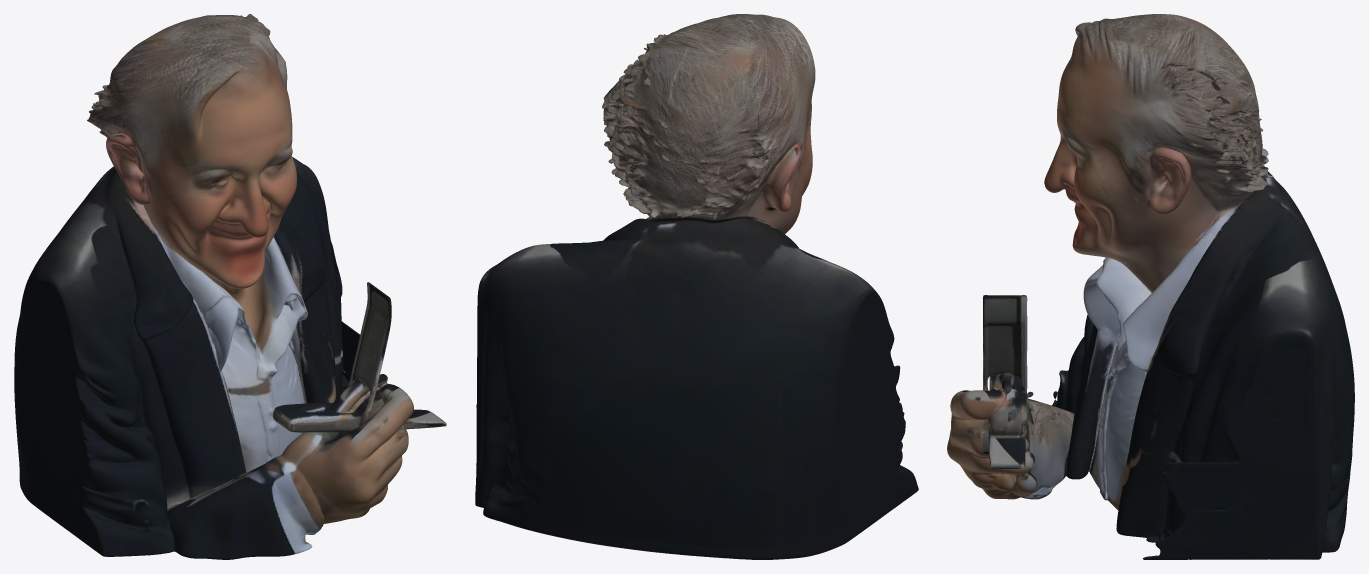
The model's file is elderly man 3d model (1).glb.
3 views of the same model, side by side, from view 1: azimuth 30°, elevation 25°; view 2: azimuth 150°, elevation 25°; view 3: azimuth 270°, elevation 25° (orthographic).
Visible parts, largest first — view 1: tripo_node_208a9336-2ae3-4dad-b307-fb189d6de02f; view 2: tripo_node_208a9336-2ae3-4dad-b307-fb189d6de02f; view 3: tripo_node_208a9336-2ae3-4dad-b307-fb189d6de02f.
Part boxes in pixels (box(x1,y1,x2,y2)): tripo_node_208a9336-2ae3-4dad-b307-fb189d6de02f: box(14, 14, 446, 559); tripo_node_208a9336-2ae3-4dad-b307-fb189d6de02f: box(475, 14, 918, 559); tripo_node_208a9336-2ae3-4dad-b307-fb189d6de02f: box(947, 14, 1354, 559).
Size of the model in its own units: 0.7287 by 1 by 0.8117.
Materials: 1 (1 with a texture image).
